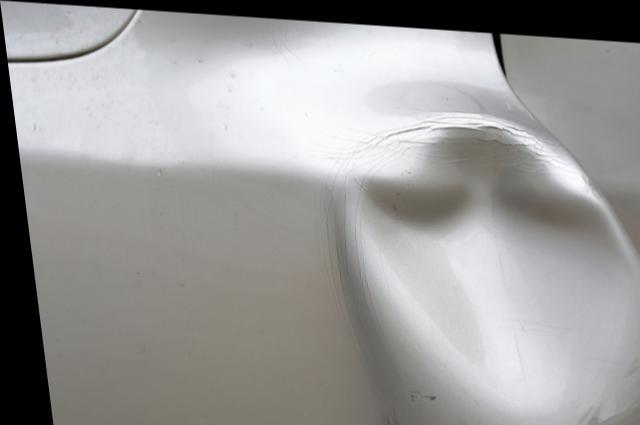dent: (333, 109, 626, 425)
